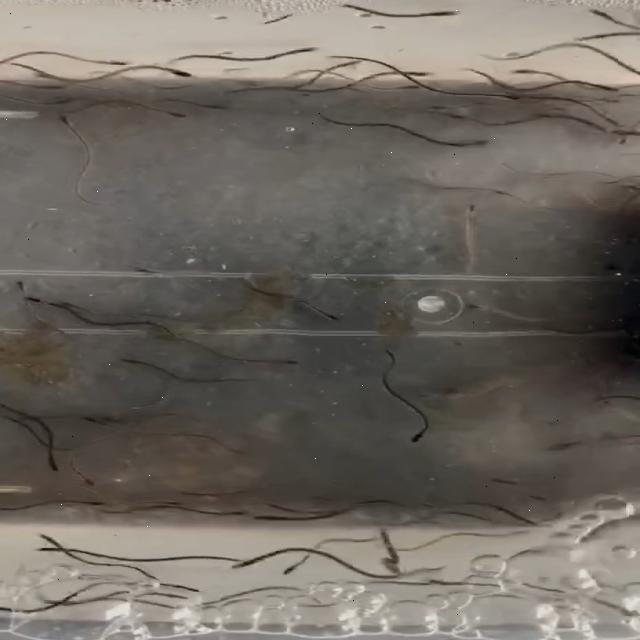active_glass_eel: (578, 3, 624, 23), (448, 300, 512, 312), (74, 407, 112, 427), (87, 56, 139, 70), (403, 420, 433, 444), (535, 437, 581, 452), (298, 308, 346, 322), (32, 531, 74, 547), (153, 588, 189, 606), (590, 82, 628, 99), (68, 469, 106, 486), (158, 66, 200, 81), (152, 108, 200, 121), (448, 139, 500, 151), (168, 581, 212, 595), (122, 265, 164, 279), (228, 557, 270, 571), (482, 92, 527, 105), (406, 10, 464, 20), (25, 294, 61, 310), (319, 58, 366, 70), (252, 497, 292, 511), (7, 278, 30, 302), (50, 94, 88, 108), (597, 112, 630, 128), (61, 500, 109, 511), (52, 114, 78, 134), (273, 560, 305, 576), (278, 356, 314, 370), (383, 84, 428, 95), (240, 516, 284, 527), (286, 45, 323, 58), (484, 476, 532, 486), (30, 546, 70, 558), (108, 356, 144, 369), (383, 546, 409, 564), (206, 506, 248, 517), (396, 68, 434, 80), (506, 68, 551, 78), (188, 102, 231, 112), (462, 202, 488, 218), (38, 82, 72, 92), (46, 459, 70, 472)
